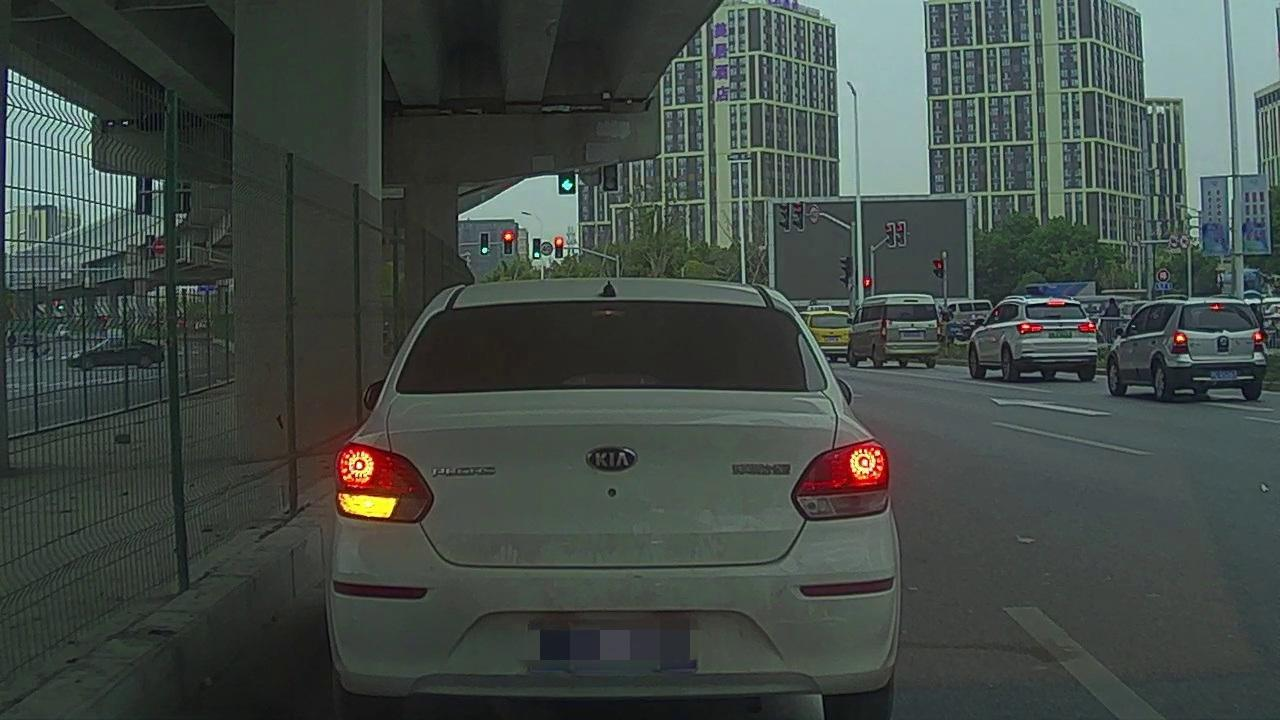traffic_light: (560, 170, 574, 194), (604, 165, 617, 190), (503, 233, 513, 253), (481, 233, 490, 255), (556, 237, 564, 256), (534, 239, 542, 257)
